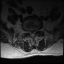CCS_normal: (31, 30, 33, 37)
LFS_stenosis: (35, 28, 37, 33)
LLS_normal: (33, 30, 35, 36)
RFS_stenosis: (28, 29, 29, 35)
RLS_normal: (30, 30, 31, 36)
